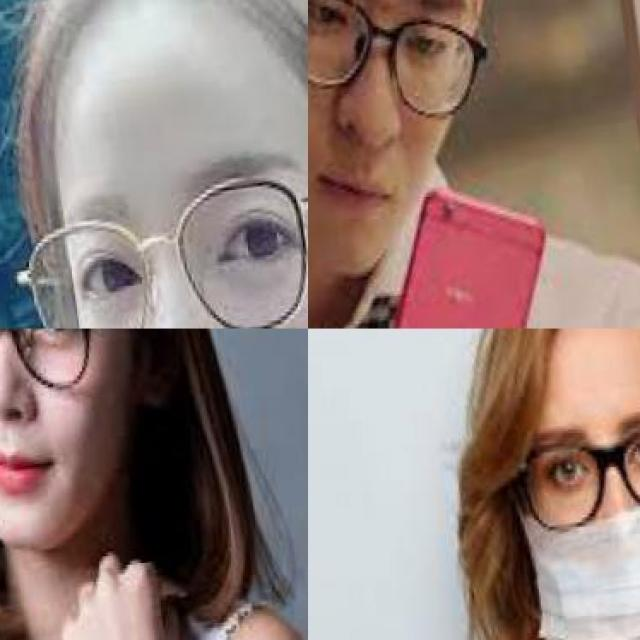Glasses: (7, 161, 306, 327), (308, 0, 498, 142), (482, 409, 640, 541), (0, 328, 116, 412)
